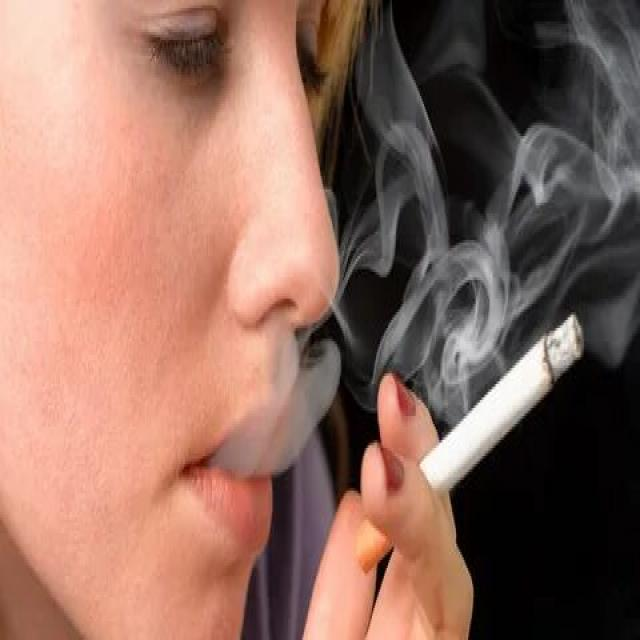smoke: (354, 304, 590, 579)
